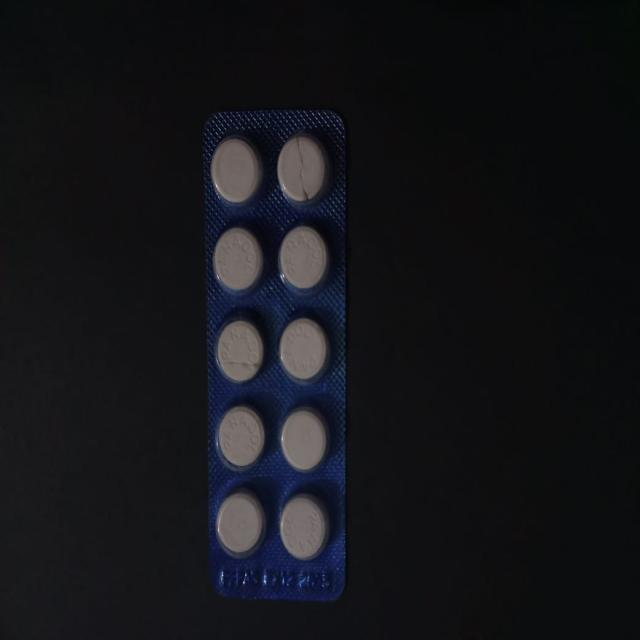defect: (274, 131, 331, 211), (212, 317, 268, 386)
